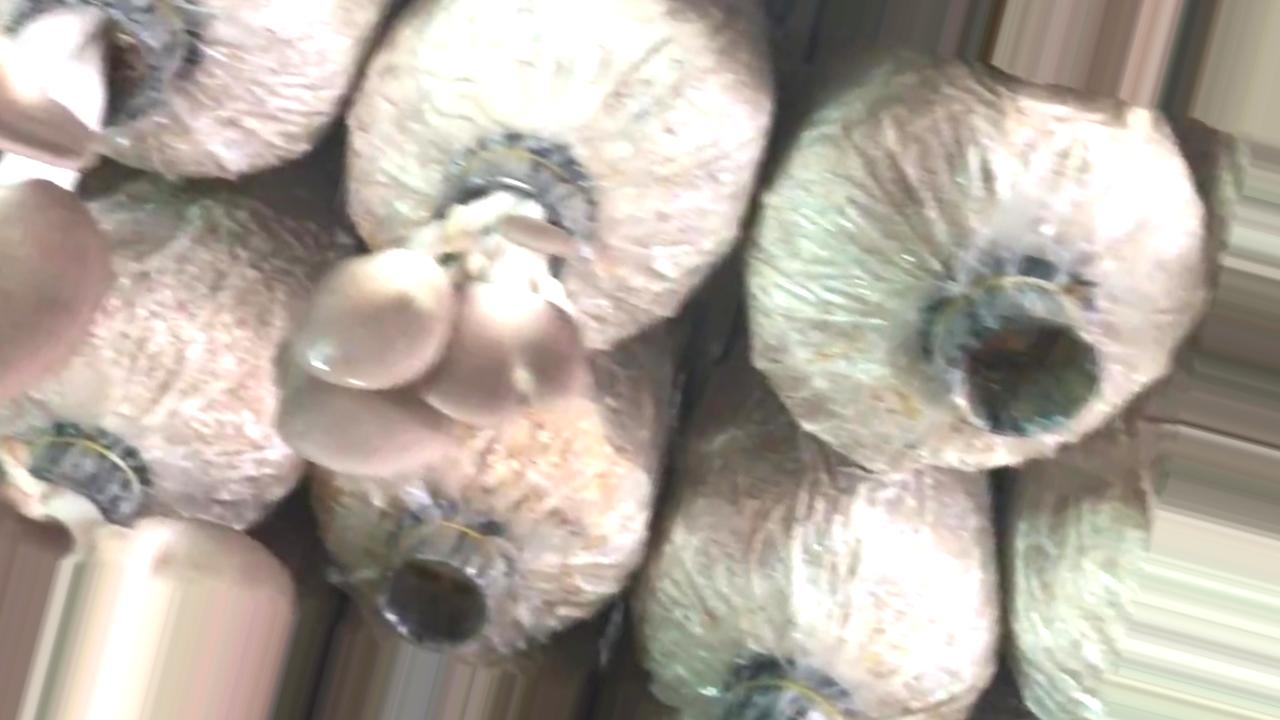nam: (271, 139, 596, 480), (1, 1, 199, 405)
